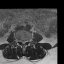CCS_stenosis: (22, 38, 24, 46)
LFS_normal: (26, 38, 28, 43)
LLS_normal: (24, 38, 26, 44)
RFS_normal: (19, 37, 20, 43)
RLS_normal: (20, 38, 22, 45)
